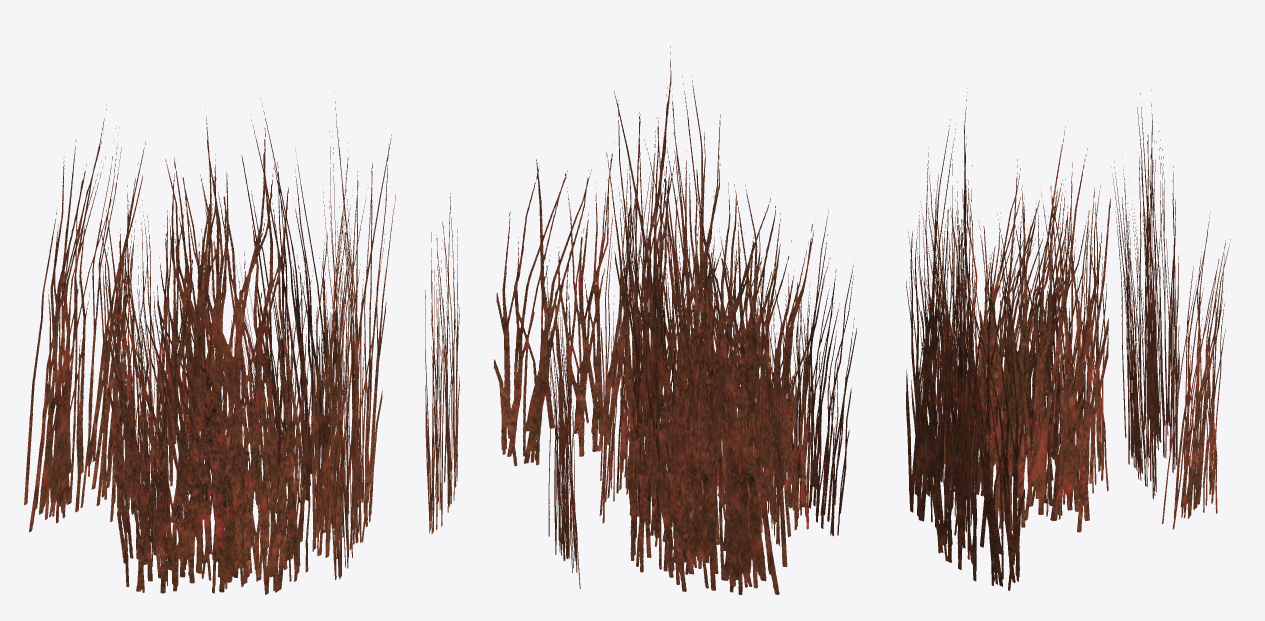
Rendered from grass_3d_04_red.glb.
3 views of the same model, side by side, from view 1: azimuth 30°, elevation 25°; view 2: azimuth 150°, elevation 25°; view 3: azimuth 270°, elevation 25° (orthographic). The views are drawn at different scales.
Parts seen in each view (by area): view 1: grass_cards; view 2: grass_cards; view 3: grass_cards.
Part boxes in pixels (x1,y1,x2,y2): grass_cards: (24, 85, 459, 594); grass_cards: (493, 46, 856, 594); grass_cards: (906, 88, 1230, 590).
Size of the model in its own units: 0.6428 by 0.7966 by 0.546.
1 material, 1 textured.
